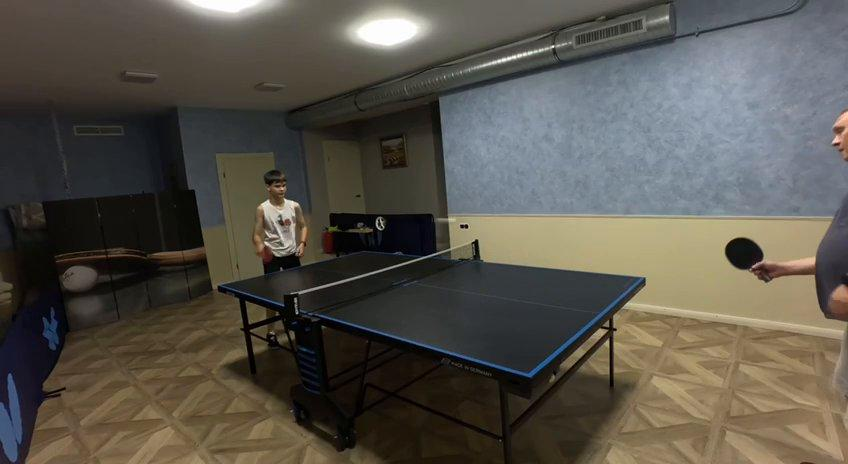Net: (283, 240, 481, 321)
Player1: (253, 169, 306, 271)
Player2: (742, 195, 847, 432), (832, 109, 847, 161)
Table: (222, 253, 640, 377)
